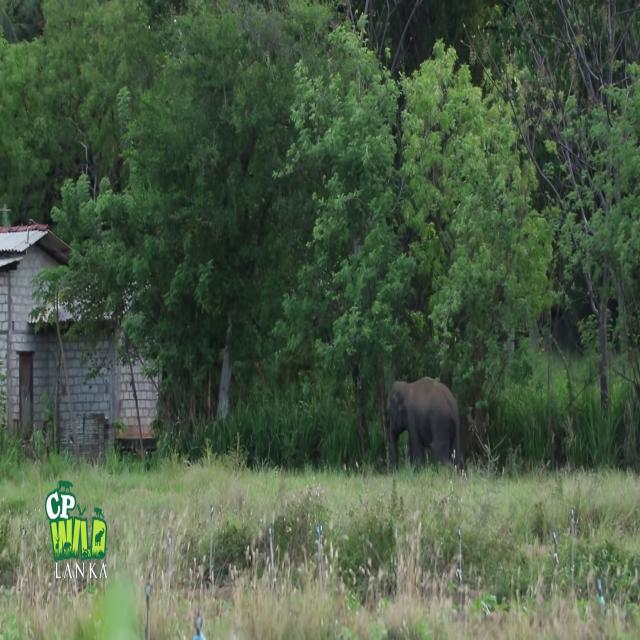Elephant: (386, 376, 460, 474)
